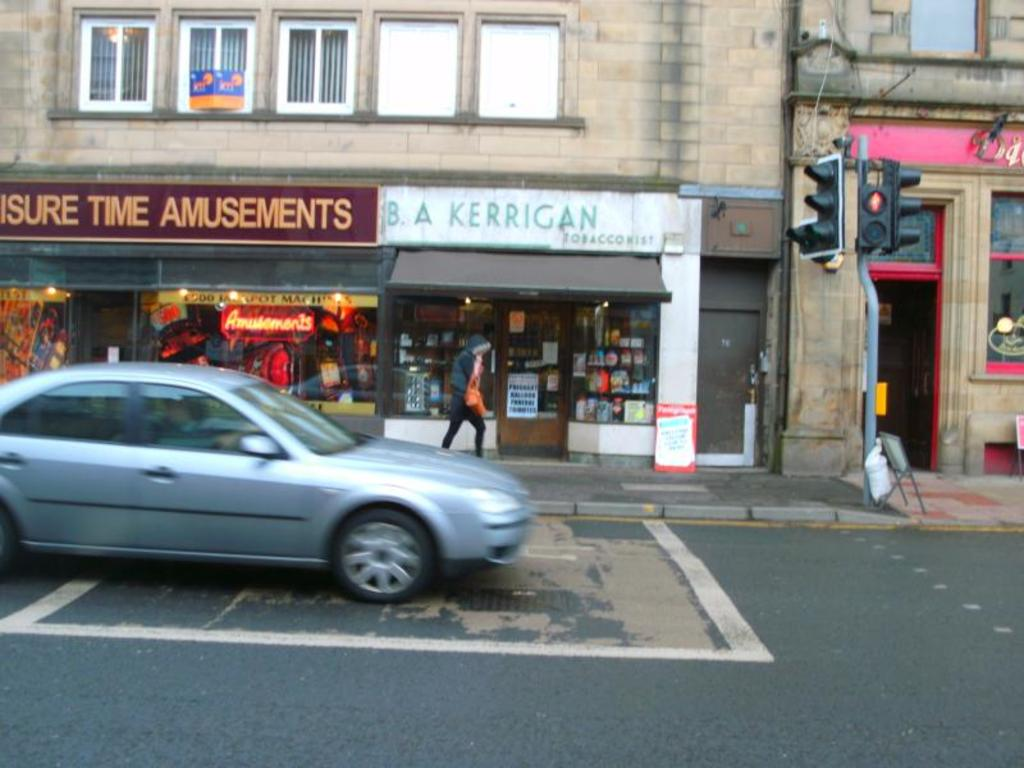Car: (0, 359, 524, 608)
